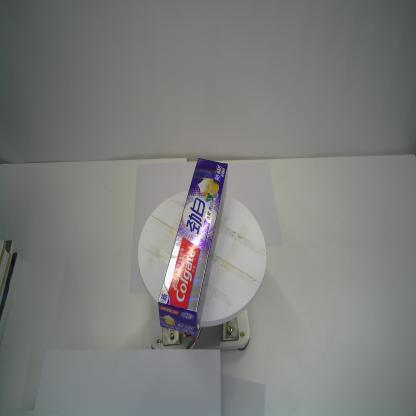Personal Hygiene: (156, 156, 230, 339)
